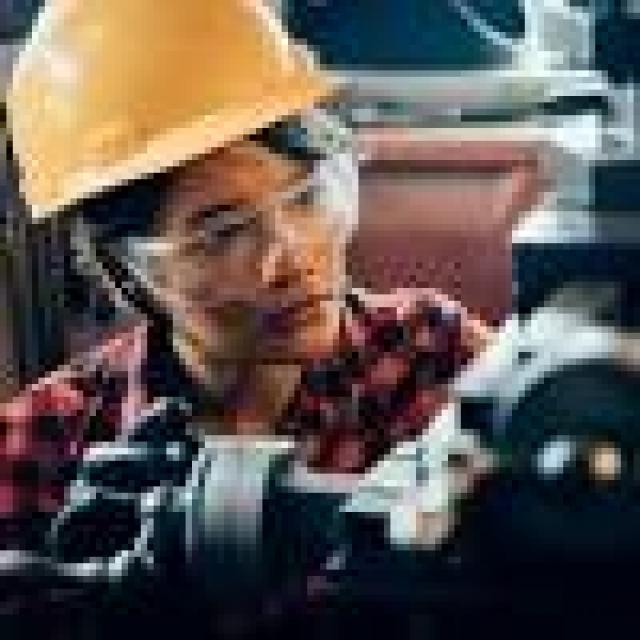Safety-Helmet: (0, 0, 377, 230)
